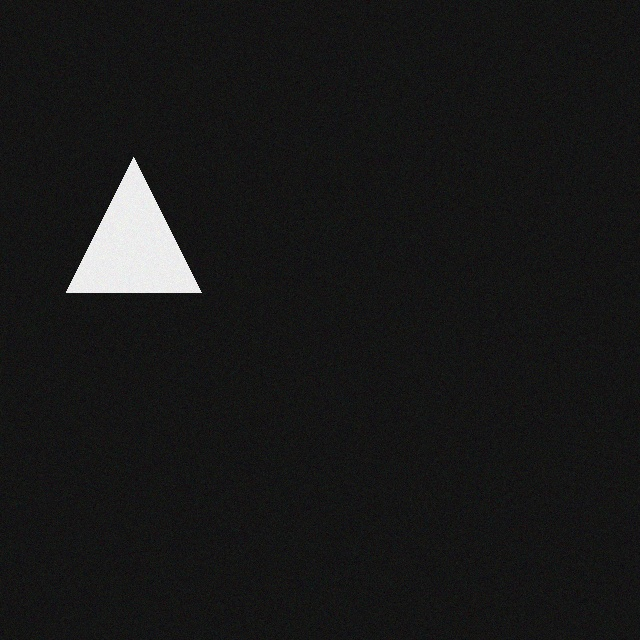triangle: (71, 167, 206, 302)
